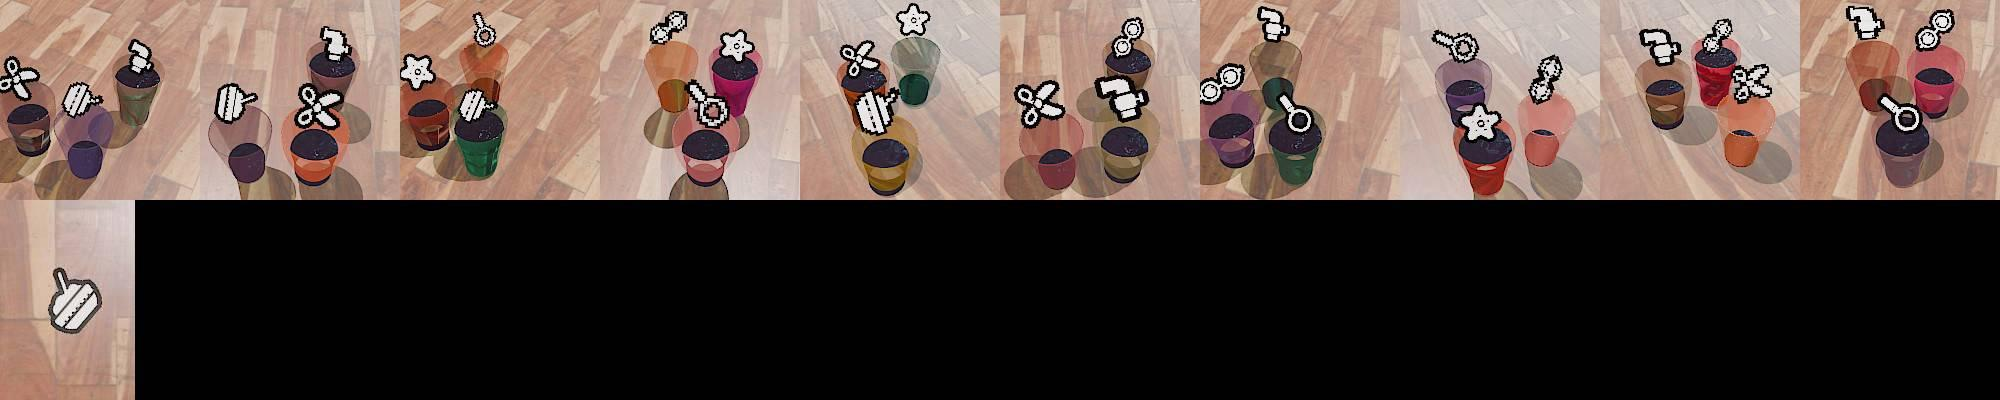icon: (47, 265, 102, 338), (1093, 72, 1151, 122), (684, 78, 735, 130), (1014, 77, 1066, 126), (295, 81, 343, 128), (1456, 100, 1505, 144), (854, 86, 898, 135), (1198, 63, 1247, 106), (1527, 53, 1565, 105), (1729, 62, 1773, 106), (215, 82, 259, 125), (1879, 94, 1924, 134), (1915, 9, 1956, 51), (1275, 93, 1315, 136), (1430, 29, 1478, 64), (60, 80, 104, 118), (1638, 28, 1682, 66), (1, 58, 37, 101), (839, 38, 879, 76), (1112, 17, 1145, 61), (399, 52, 436, 91), (1846, 5, 1885, 42), (650, 10, 689, 46), (456, 87, 492, 123), (718, 29, 756, 63), (1256, 5, 1289, 43), (896, 2, 930, 37), (318, 25, 351, 61), (1703, 19, 1735, 53), (127, 39, 155, 74), (471, 12, 497, 48), (52, 265, 70, 292)
